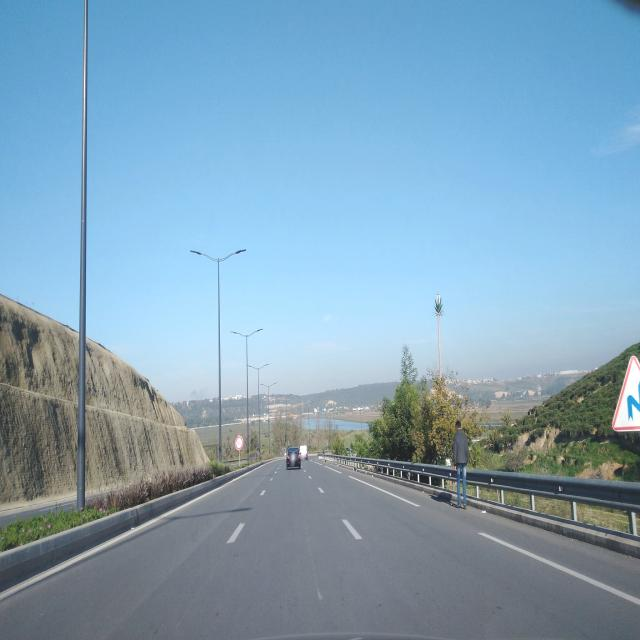car: (286, 445, 302, 469)
